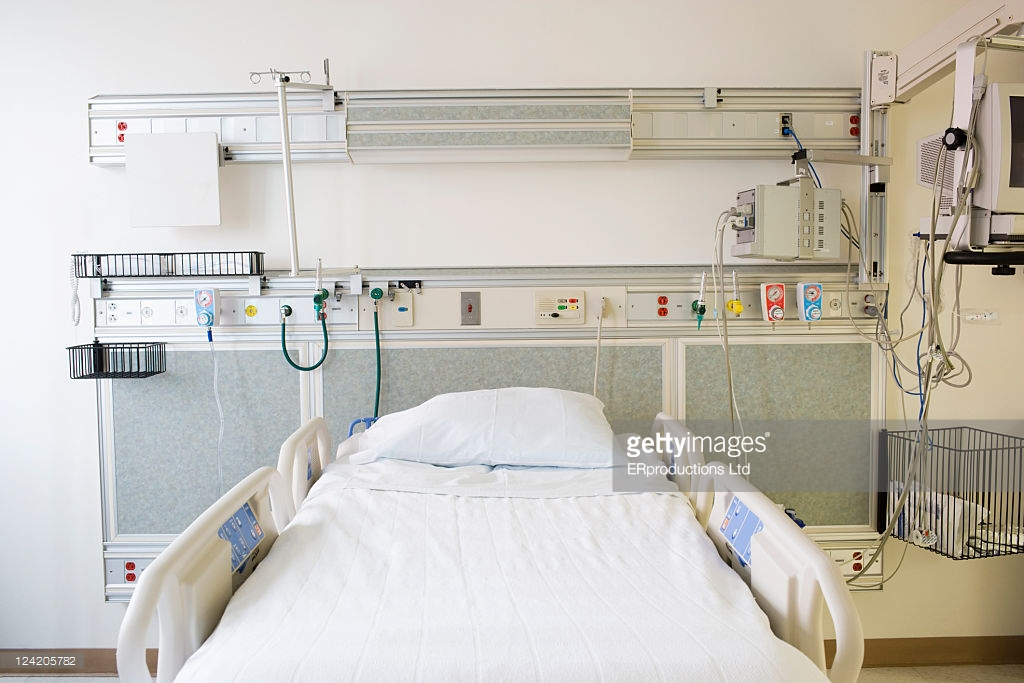hospital bed: (93, 380, 855, 670)
